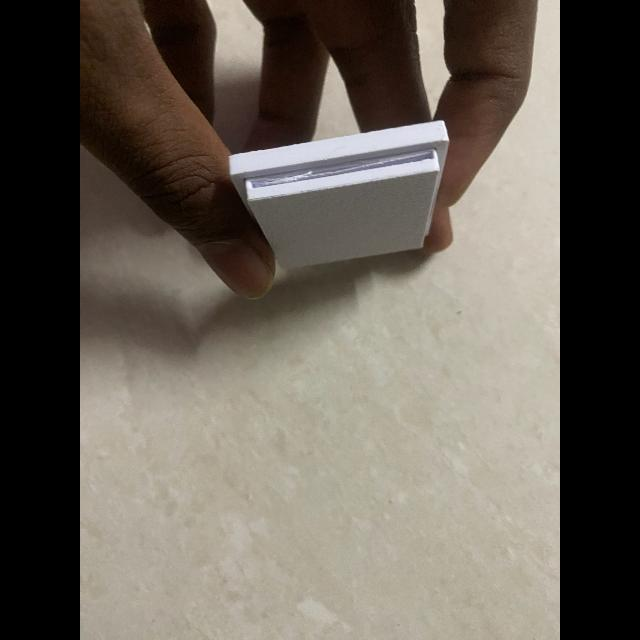RASPBERY PI CAM ENCLOSURE: (228, 120, 450, 270)
